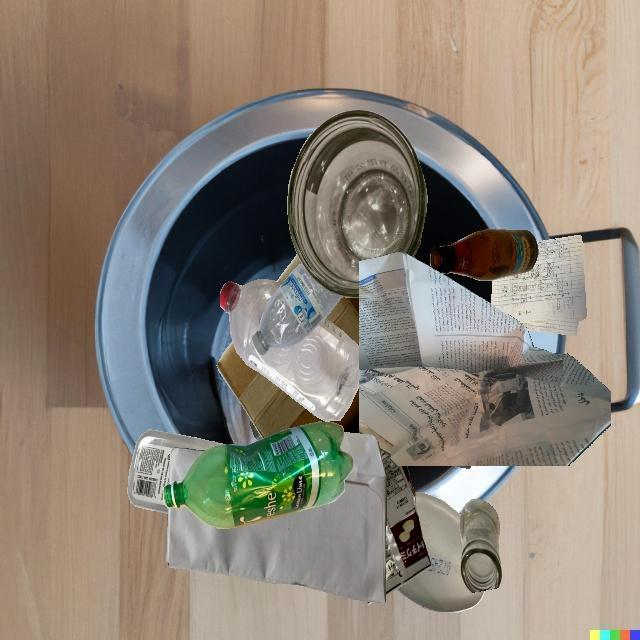cardboard: (217, 340, 361, 439), (281, 285, 326, 417), (326, 296, 359, 346)
glass: (287, 110, 427, 298), (430, 229, 538, 281), (459, 498, 502, 593), (250, 418, 263, 440)
paper: (359, 252, 611, 466), (167, 432, 387, 603), (491, 235, 587, 336)
plastic: (163, 421, 353, 529), (220, 279, 361, 421), (397, 492, 485, 613), (252, 263, 343, 355), (127, 429, 224, 514), (379, 448, 431, 597), (457, 466, 471, 468)
